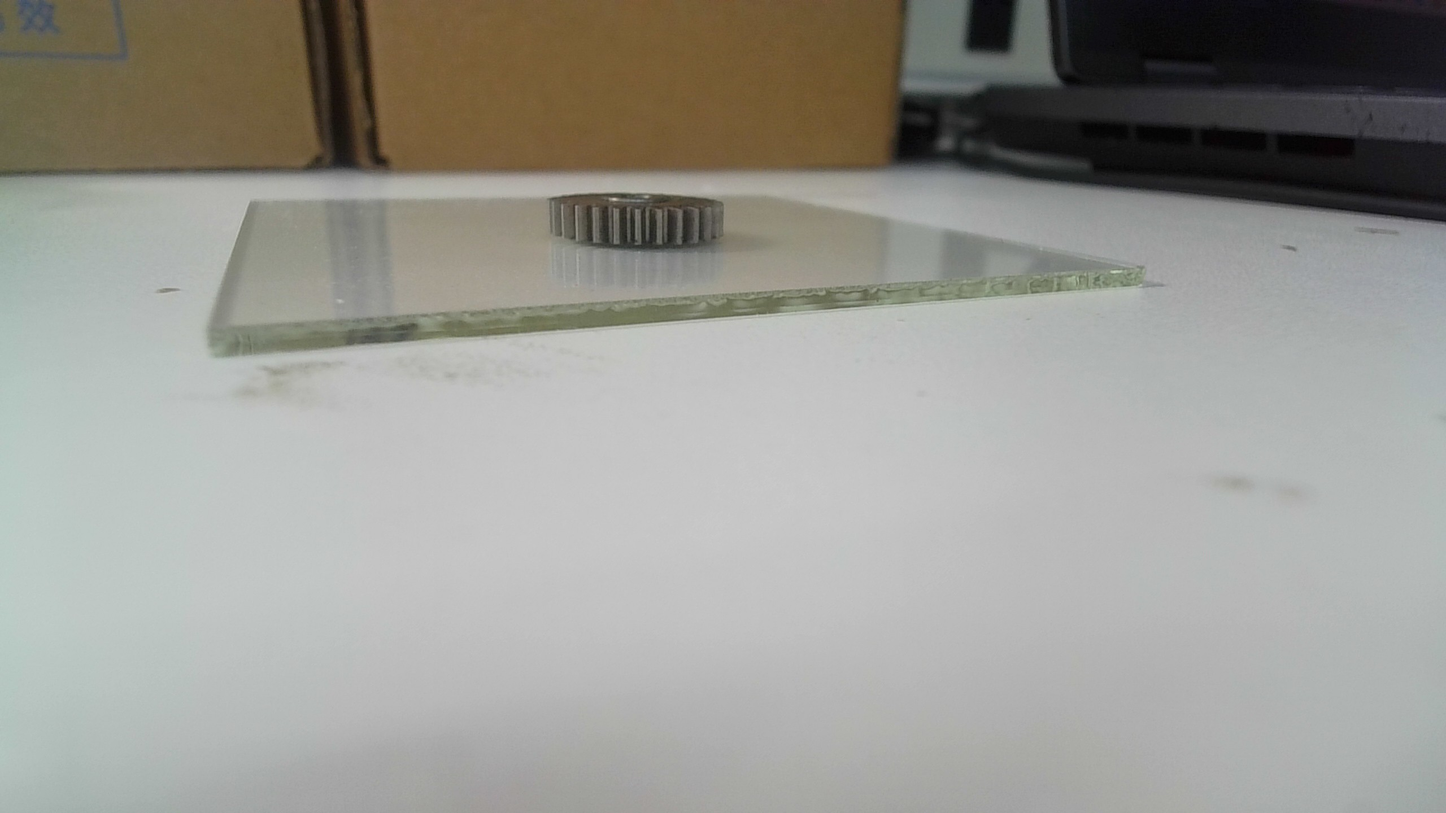gear: (546, 190, 730, 254)
